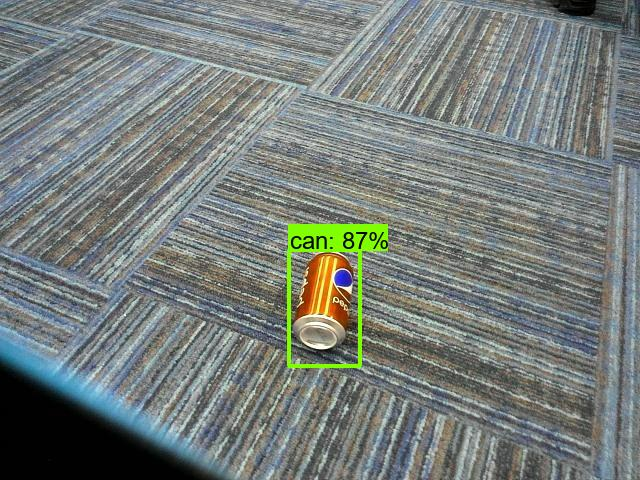can: (285, 250, 357, 361)
